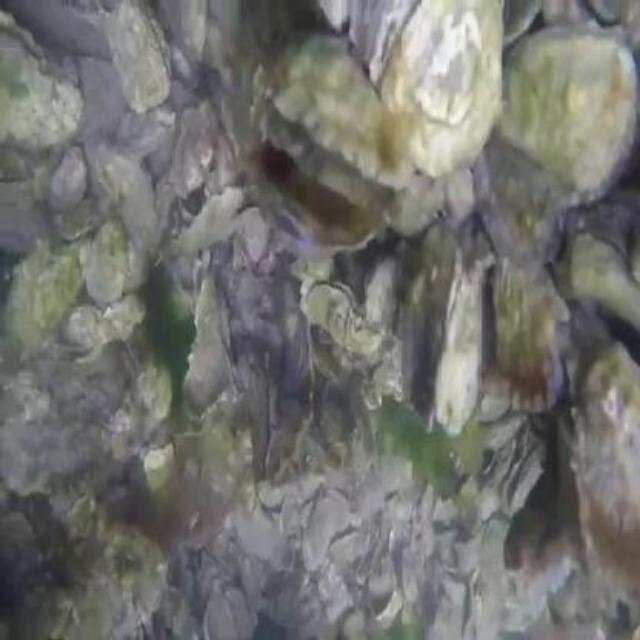Oyster-Closed: (501, 16, 638, 195), (100, 0, 171, 113), (305, 277, 380, 355), (304, 489, 350, 569), (140, 442, 176, 500), (64, 484, 95, 539), (120, 342, 140, 381)
Oyster-Indeterminate: (568, 340, 638, 599), (23, 521, 165, 638), (491, 257, 571, 408), (474, 133, 563, 268), (7, 242, 83, 348), (435, 273, 482, 441), (571, 233, 638, 331), (84, 220, 127, 302), (53, 147, 87, 204)
Oyster-Open: (259, 35, 414, 220), (350, 0, 504, 173), (0, 9, 83, 151), (498, 433, 549, 521)
